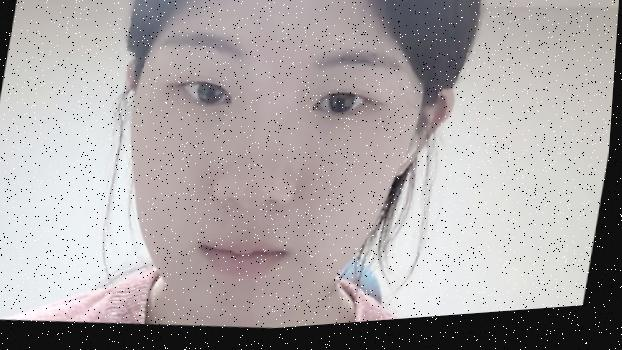eye: (197, 78, 229, 110), (328, 92, 358, 121)
iris: (178, 80, 236, 114), (312, 93, 371, 125)
